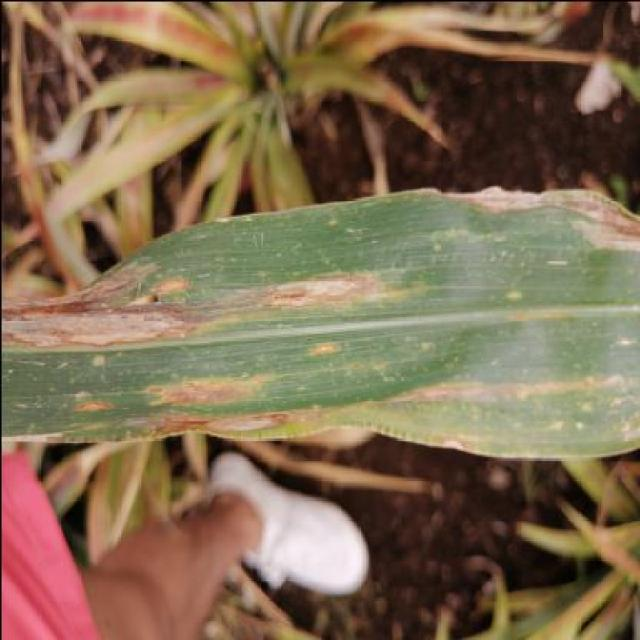Corn_Leaf_Blight: (15, 181, 640, 454)
